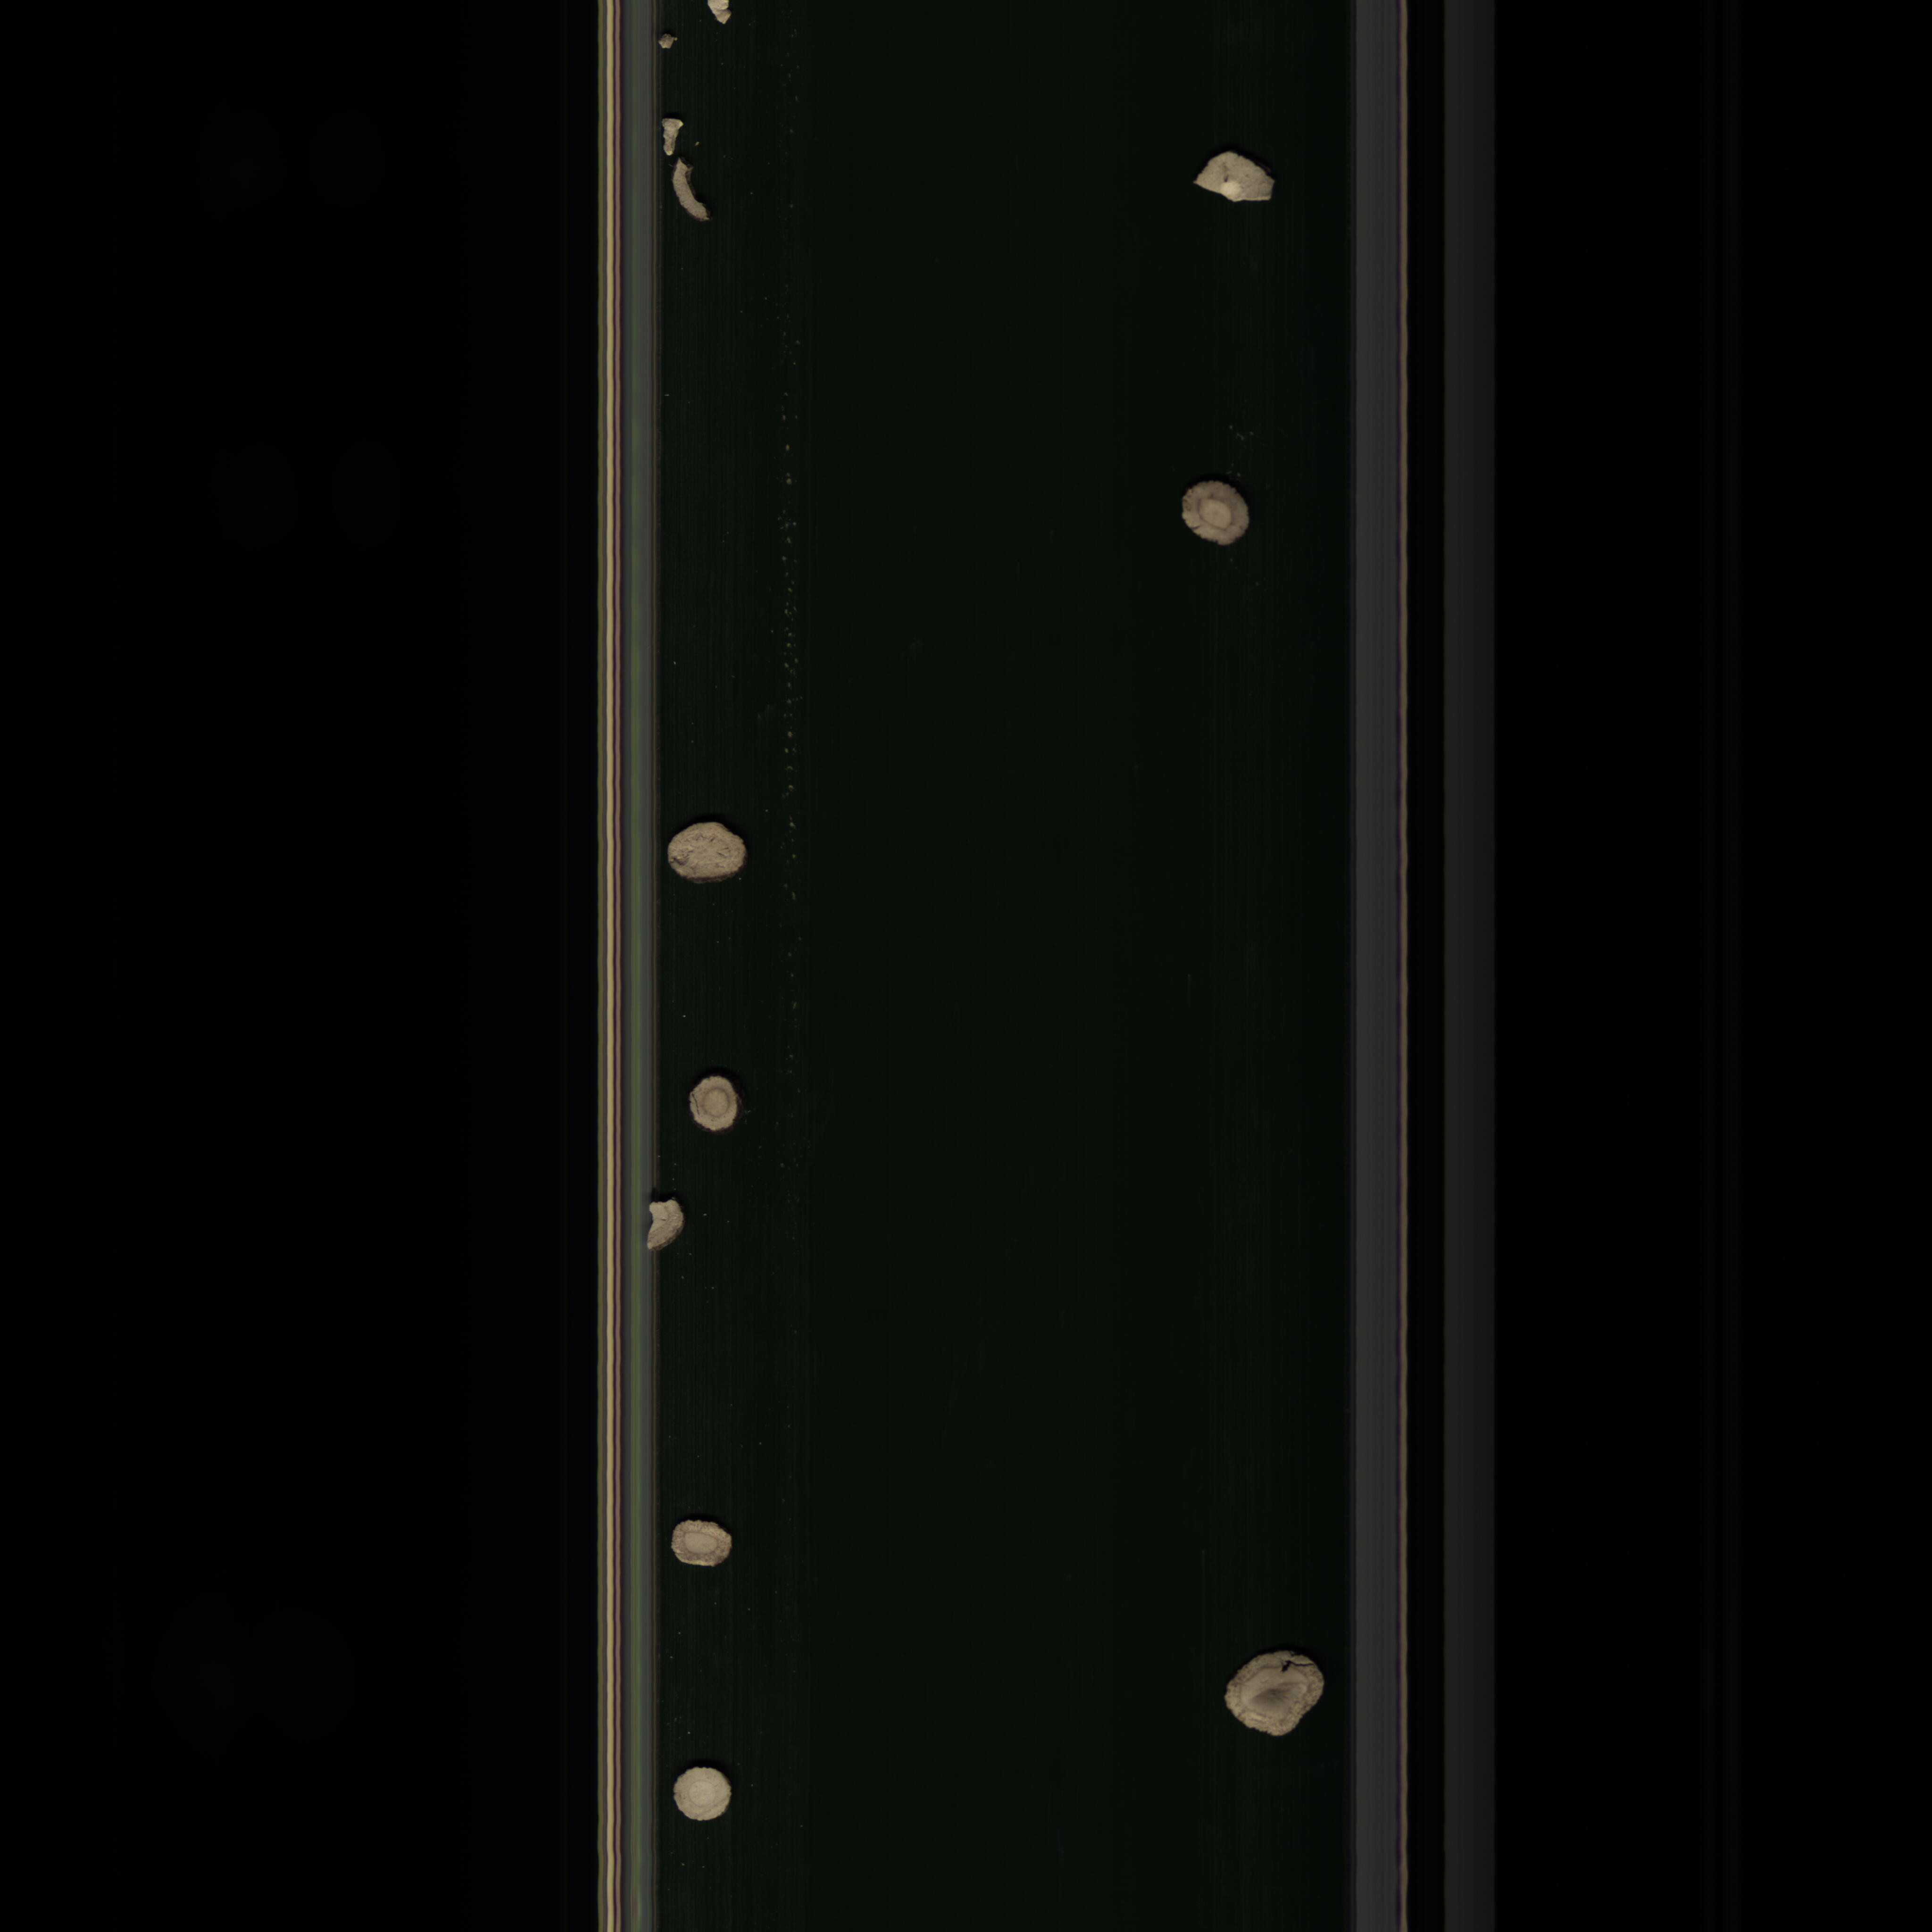debris: (1189, 143, 1284, 209), (662, 161, 718, 230), (639, 1192, 695, 1256), (656, 110, 688, 161)
hole: (1224, 1644, 1329, 1750)
moldy: (1175, 469, 1274, 557)
